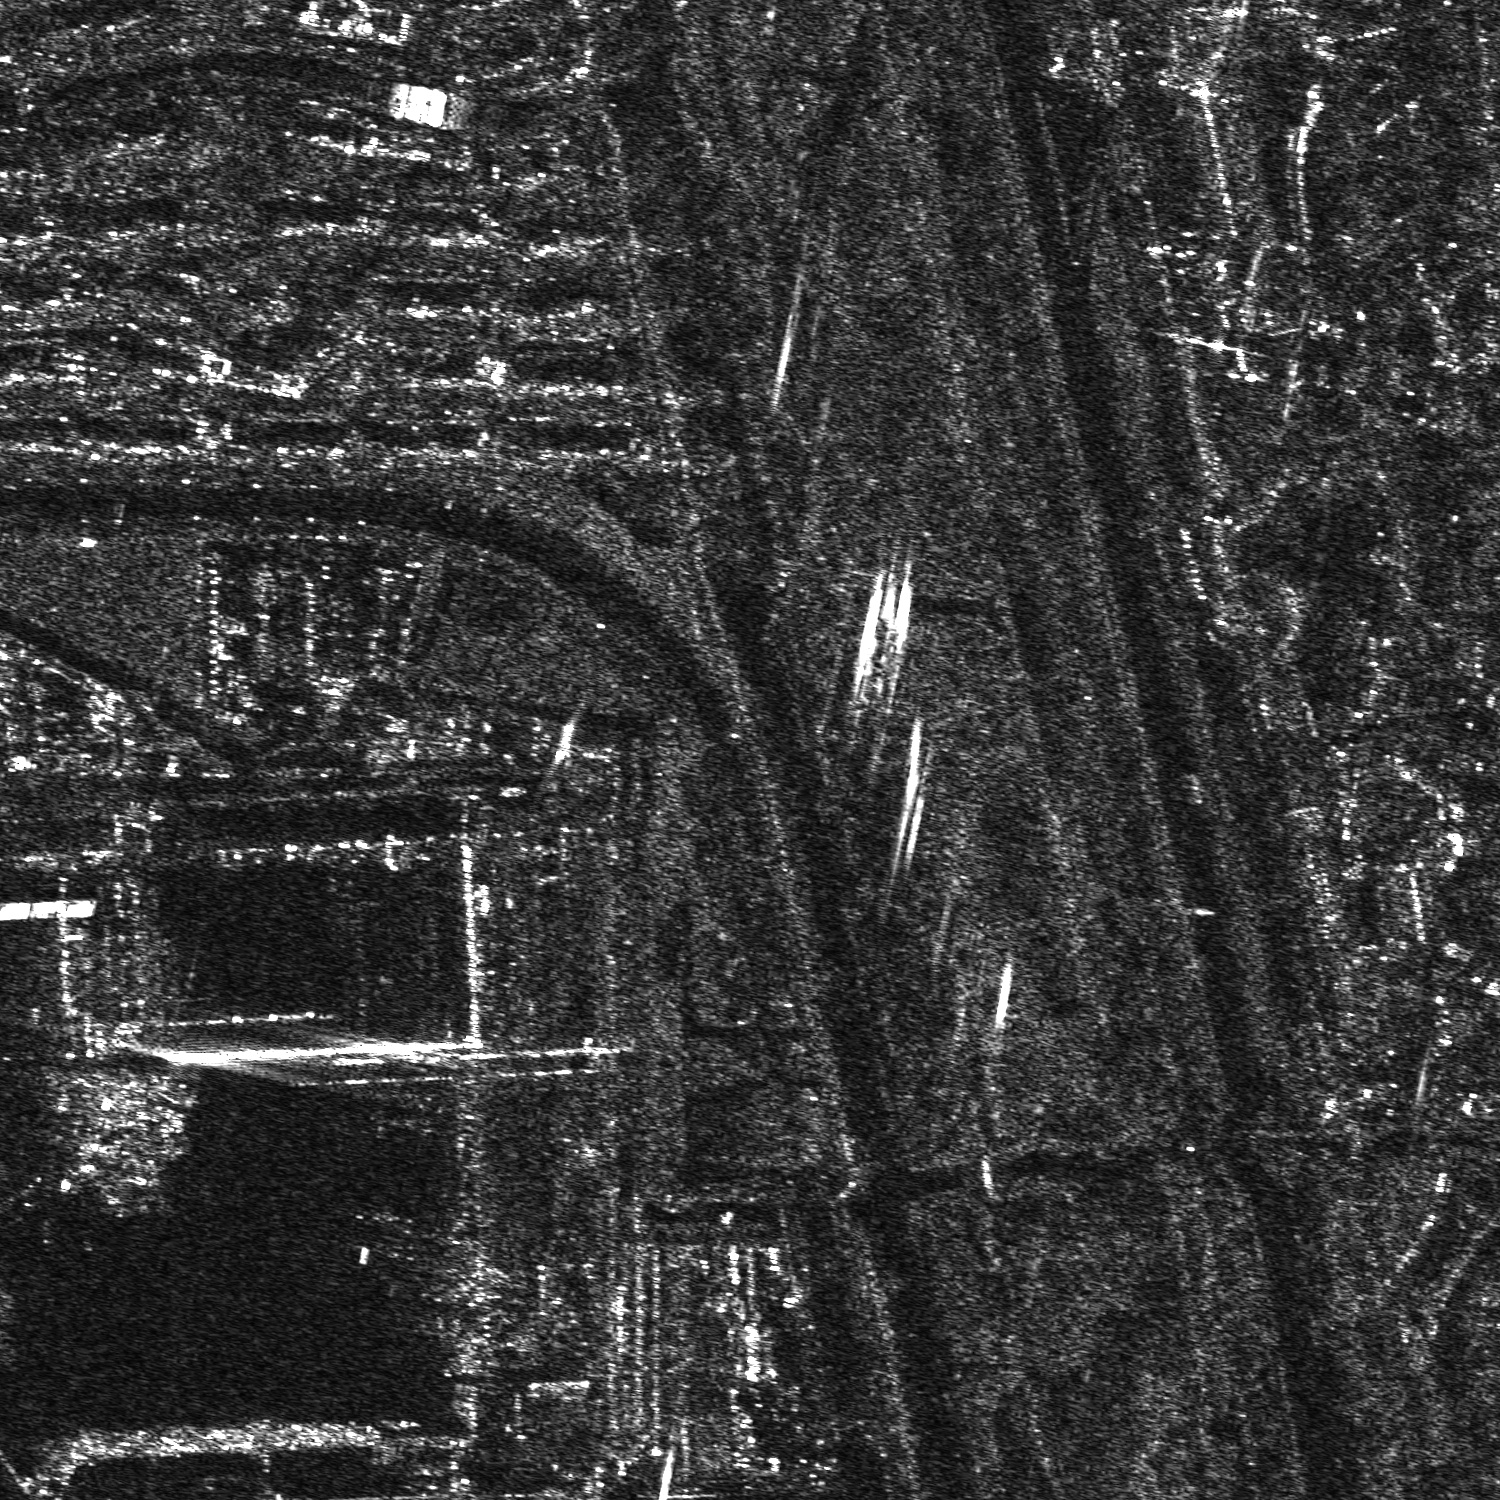A220: (354, 1198, 419, 1262)
